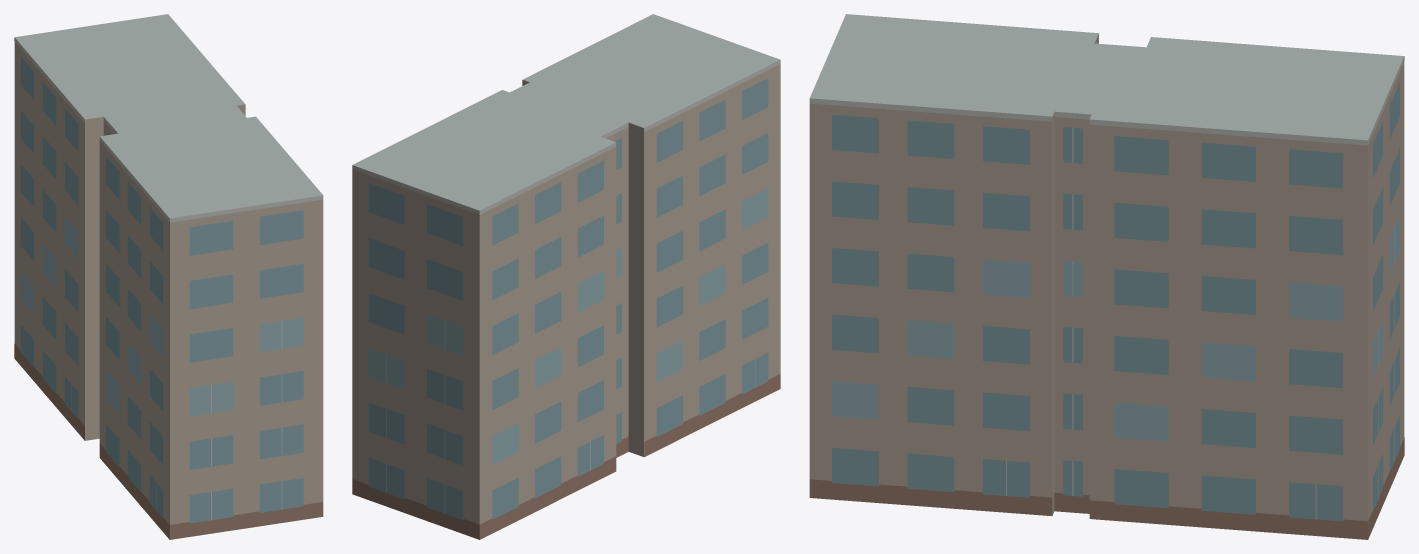
File: survey-upis-32670944.glb
3 renders of one model, left to right at view 1: azimuth 30°, elevation 25°; view 2: azimuth 150°, elevation 25°; view 3: azimuth 270°, elevation 25°, orthographic. The views are drawn at different scales.
Visible parts, largest first — view 1: survey-upis-32670944.tmp; view 2: survey-upis-32670944.tmp; view 3: survey-upis-32670944.tmp.
Boxes of the visible parts, x1,y1,x2,y2 form: survey-upis-32670944.tmp: [14, 14, 323, 539]; survey-upis-32670944.tmp: [352, 14, 780, 539]; survey-upis-32670944.tmp: [809, 14, 1404, 539].
Size of the model in its own units: 12.69 by 18.7 by 25.24.
